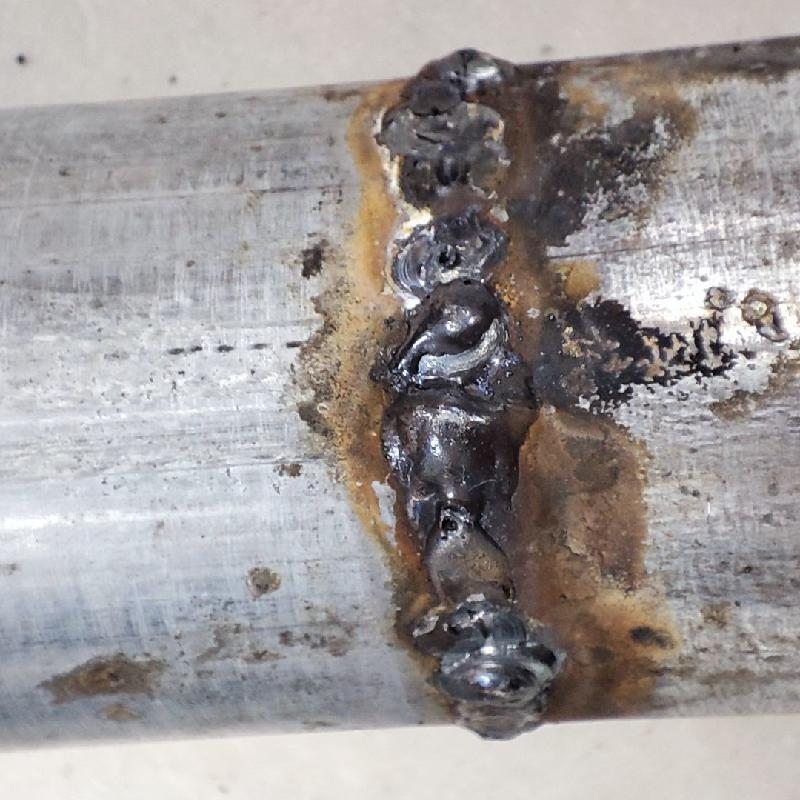Not_fully_soldered: (373, 93, 519, 286), (404, 499, 538, 648)
Surface_pores: (425, 494, 473, 547)
Weld: (378, 285, 541, 511)
wrong_size: (425, 659, 558, 742)
